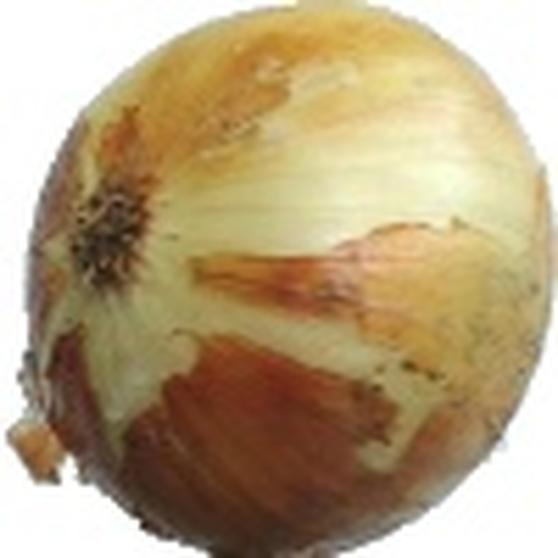onion: (19, 2, 558, 556)
